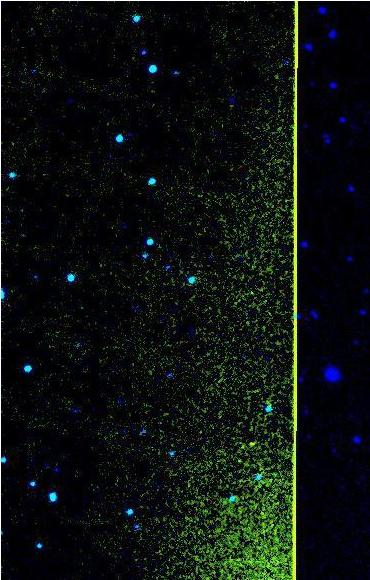star: (236, 428, 266, 458)
